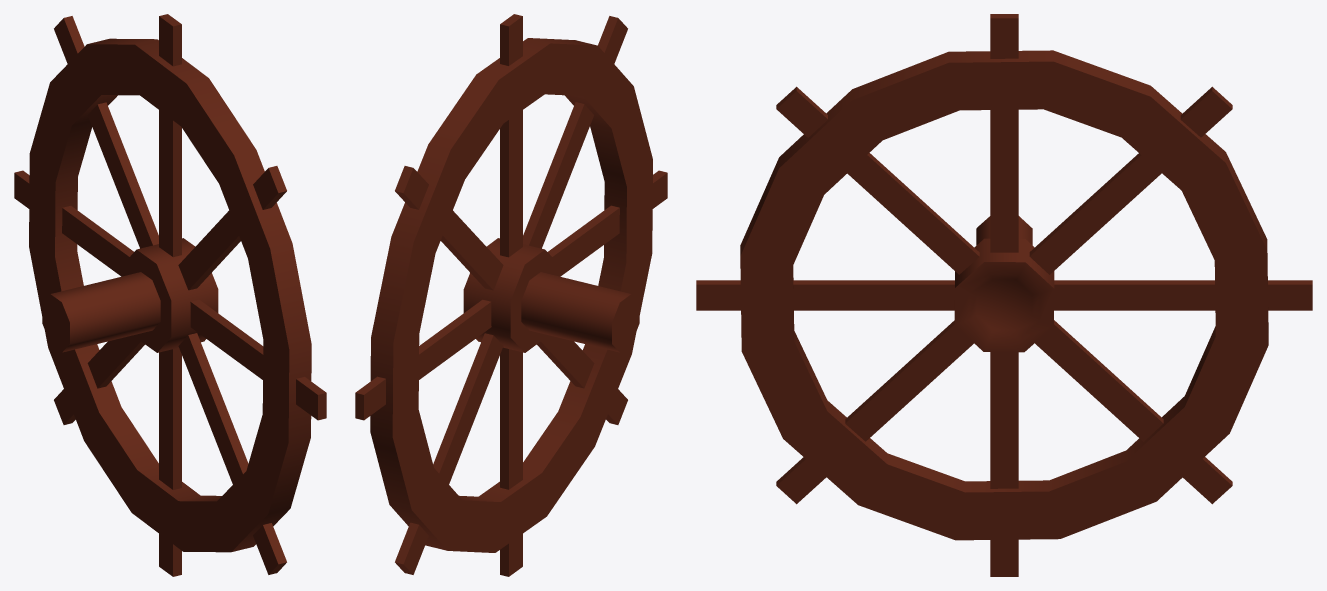
File: Steering Wheel.fbx
The picture shows the model from 3 angles, left to right: view 1: azimuth 30°, elevation 25°; view 2: azimuth 150°, elevation 25°; view 3: azimuth 270°, elevation 25°; orthographic projection.
Visible parts, largest first — view 1: Steering Wheel; view 2: Steering Wheel; view 3: Steering Wheel.
Boxes of the visible parts, x1,y1,x2,y2 form: Steering Wheel: (14,14,326,576); Steering Wheel: (355,14,667,576); Steering Wheel: (696,14,1312,576).
Bounding box in the file's own units: 18 × 68.83 × 68.83.
